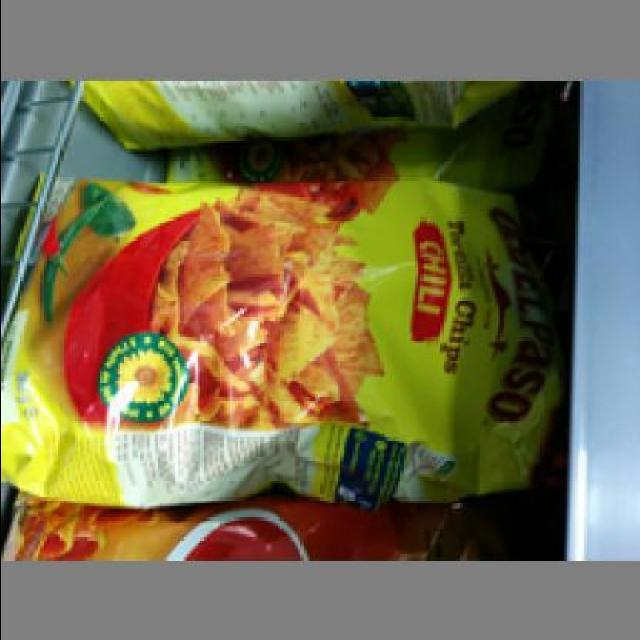Chips: (10, 177, 532, 489)
